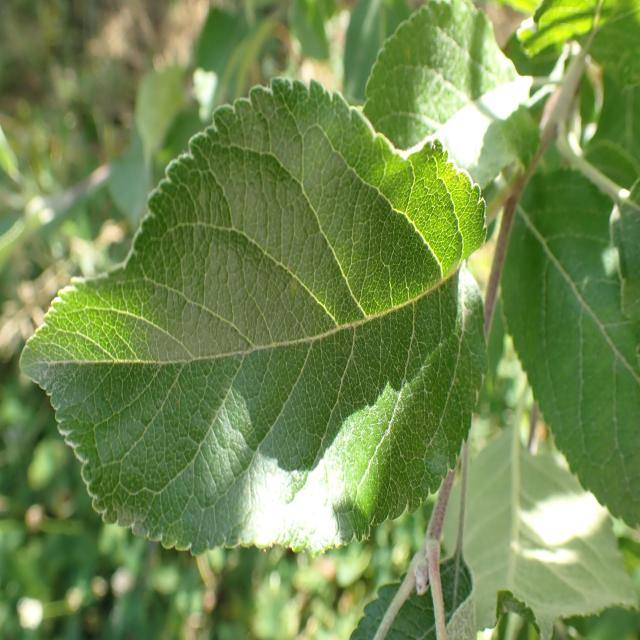healthy: (19, 75, 488, 558), (500, 167, 640, 530), (459, 427, 639, 640), (362, 0, 539, 190), (348, 553, 475, 640)
